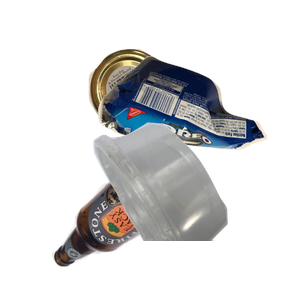glass: (49, 145, 229, 300)
metal: (86, 46, 248, 169)
plastic: (91, 120, 300, 300)
trash: (95, 53, 300, 195)
